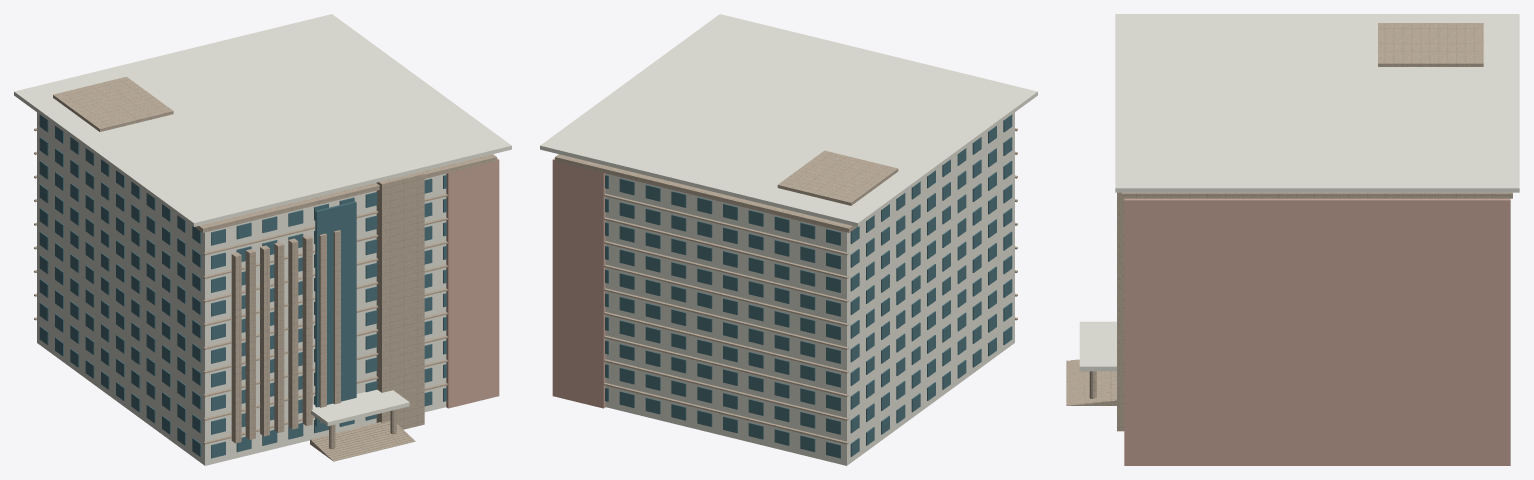
File: computer.glb
3 views of the same model, side by side, from view 1: azimuth 30°, elevation 25°; view 2: azimuth 150°, elevation 25°; view 3: azimuth 270°, elevation 25° (orthographic). The views are drawn at different scales.
Visible parts, largest first — view 1: landmark-computer; view 2: landmark-computer; view 3: landmark-computer.
Boxes of the visible parts, x1,y1,x2,y2 form: landmark-computer: [14, 14, 511, 465]; landmark-computer: [540, 14, 1037, 465]; landmark-computer: [1066, 14, 1519, 465].
Size of the model in its own units: 46.46 by 36.5 by 51.01.
4 materials, 1 textured.
